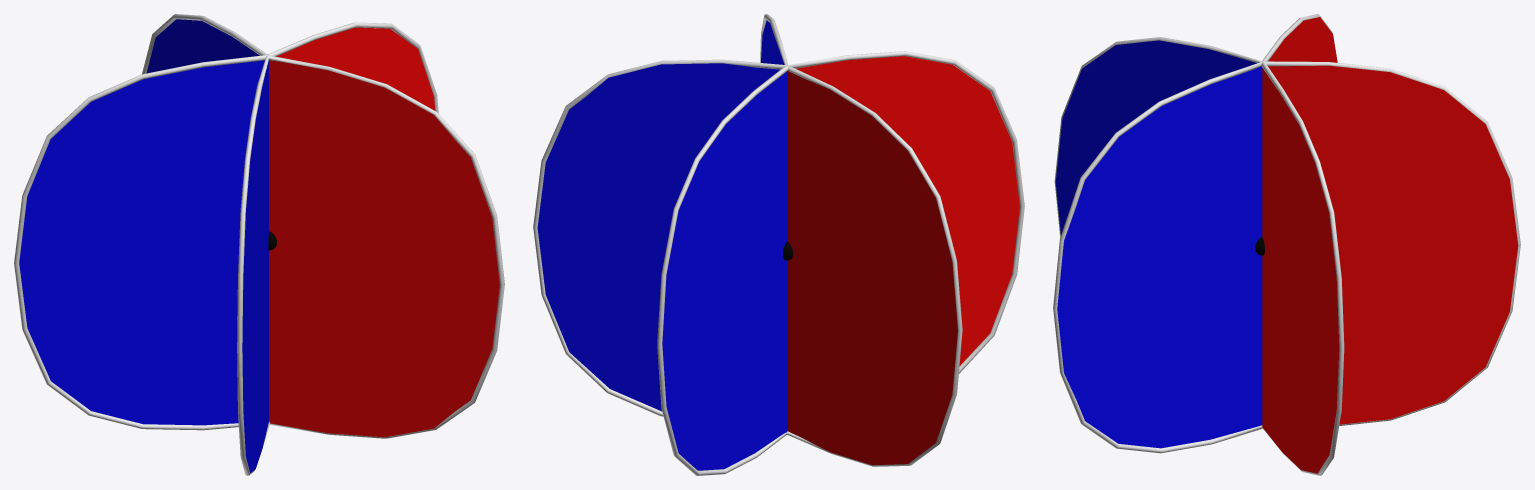
File: 5foldnbhd.glb
3 views of the same model, side by side, from view 1: azimuth 30°, elevation 25°; view 2: azimuth 150°, elevation 25°; view 3: azimuth 270°, elevation 25° (orthographic).
Visible parts, largest first — view 1: Circle, Circle.001; view 2: Circle, Circle.001; view 3: Circle, Circle.001.
Boxes of the visible parts, <box> form: Circle: <box>19,19,499,472</box>; Circle.001: <box>14,14,504,475</box>; Circle: <box>537,20,1019,470</box>; Circle.001: <box>533,14,1024,475</box>; Circle: <box>1055,17,1518,473</box>; Circle.001: <box>1053,14,1520,475</box>.
Bounding box in the file's own units: 1.84 × 1.52 × 1.76.
